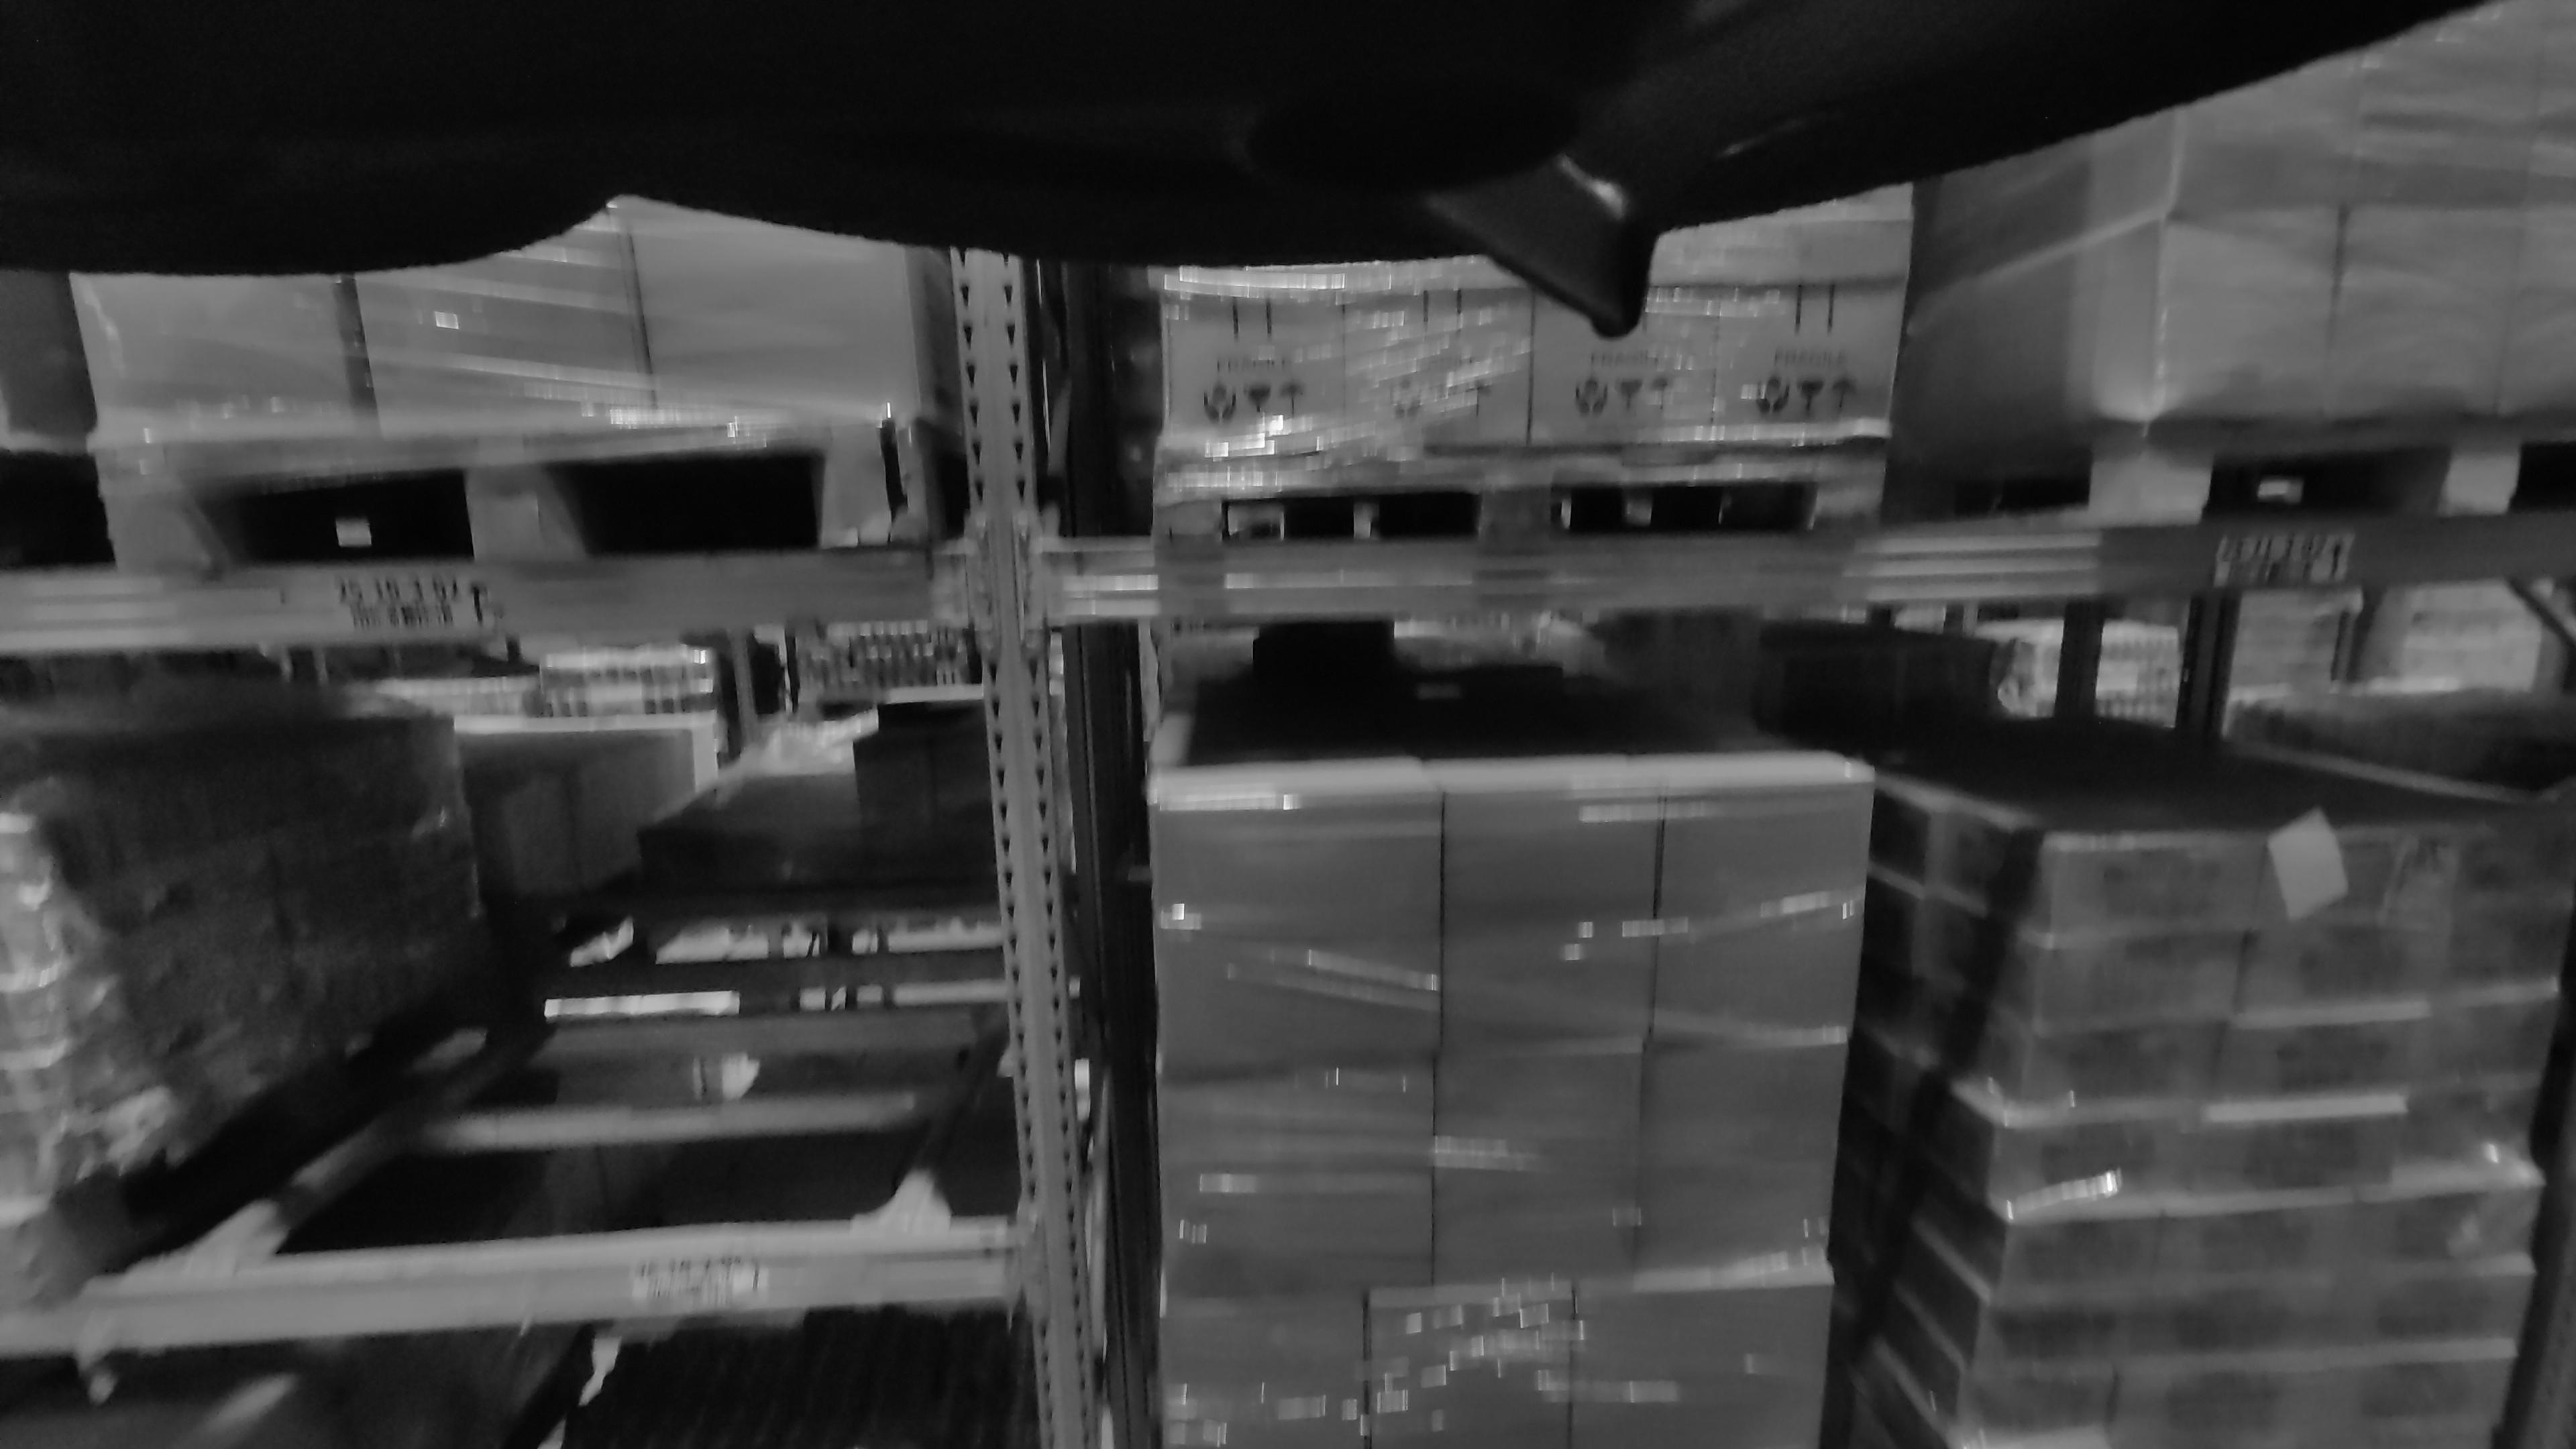empty-shelf: (280, 651, 975, 1217)
